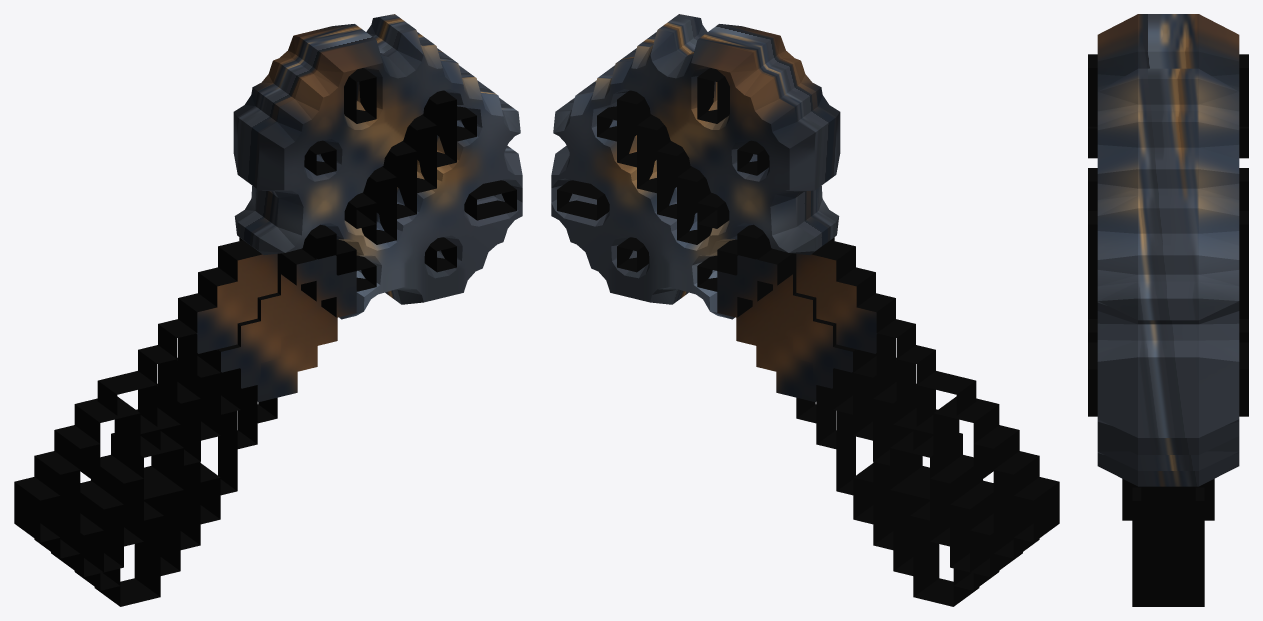
The model's file is hammer.obj.
3 views of the same model, side by side, from view 1: azimuth 30°, elevation 25°; view 2: azimuth 150°, elevation 25°; view 3: azimuth 270°, elevation 25° (orthographic). The views are drawn at different scales.
Parts seen in each view (by area): view 1: hammer; view 2: hammer; view 3: hammer.
Boxes of the visible parts, x1,y1,x2,y2 form: hammer: [14, 14, 522, 606]; hammer: [551, 14, 1059, 606]; hammer: [1088, 14, 1248, 606].
Bounding box in the file's own units: 0.7489 × 0.7489 × 0.155.
